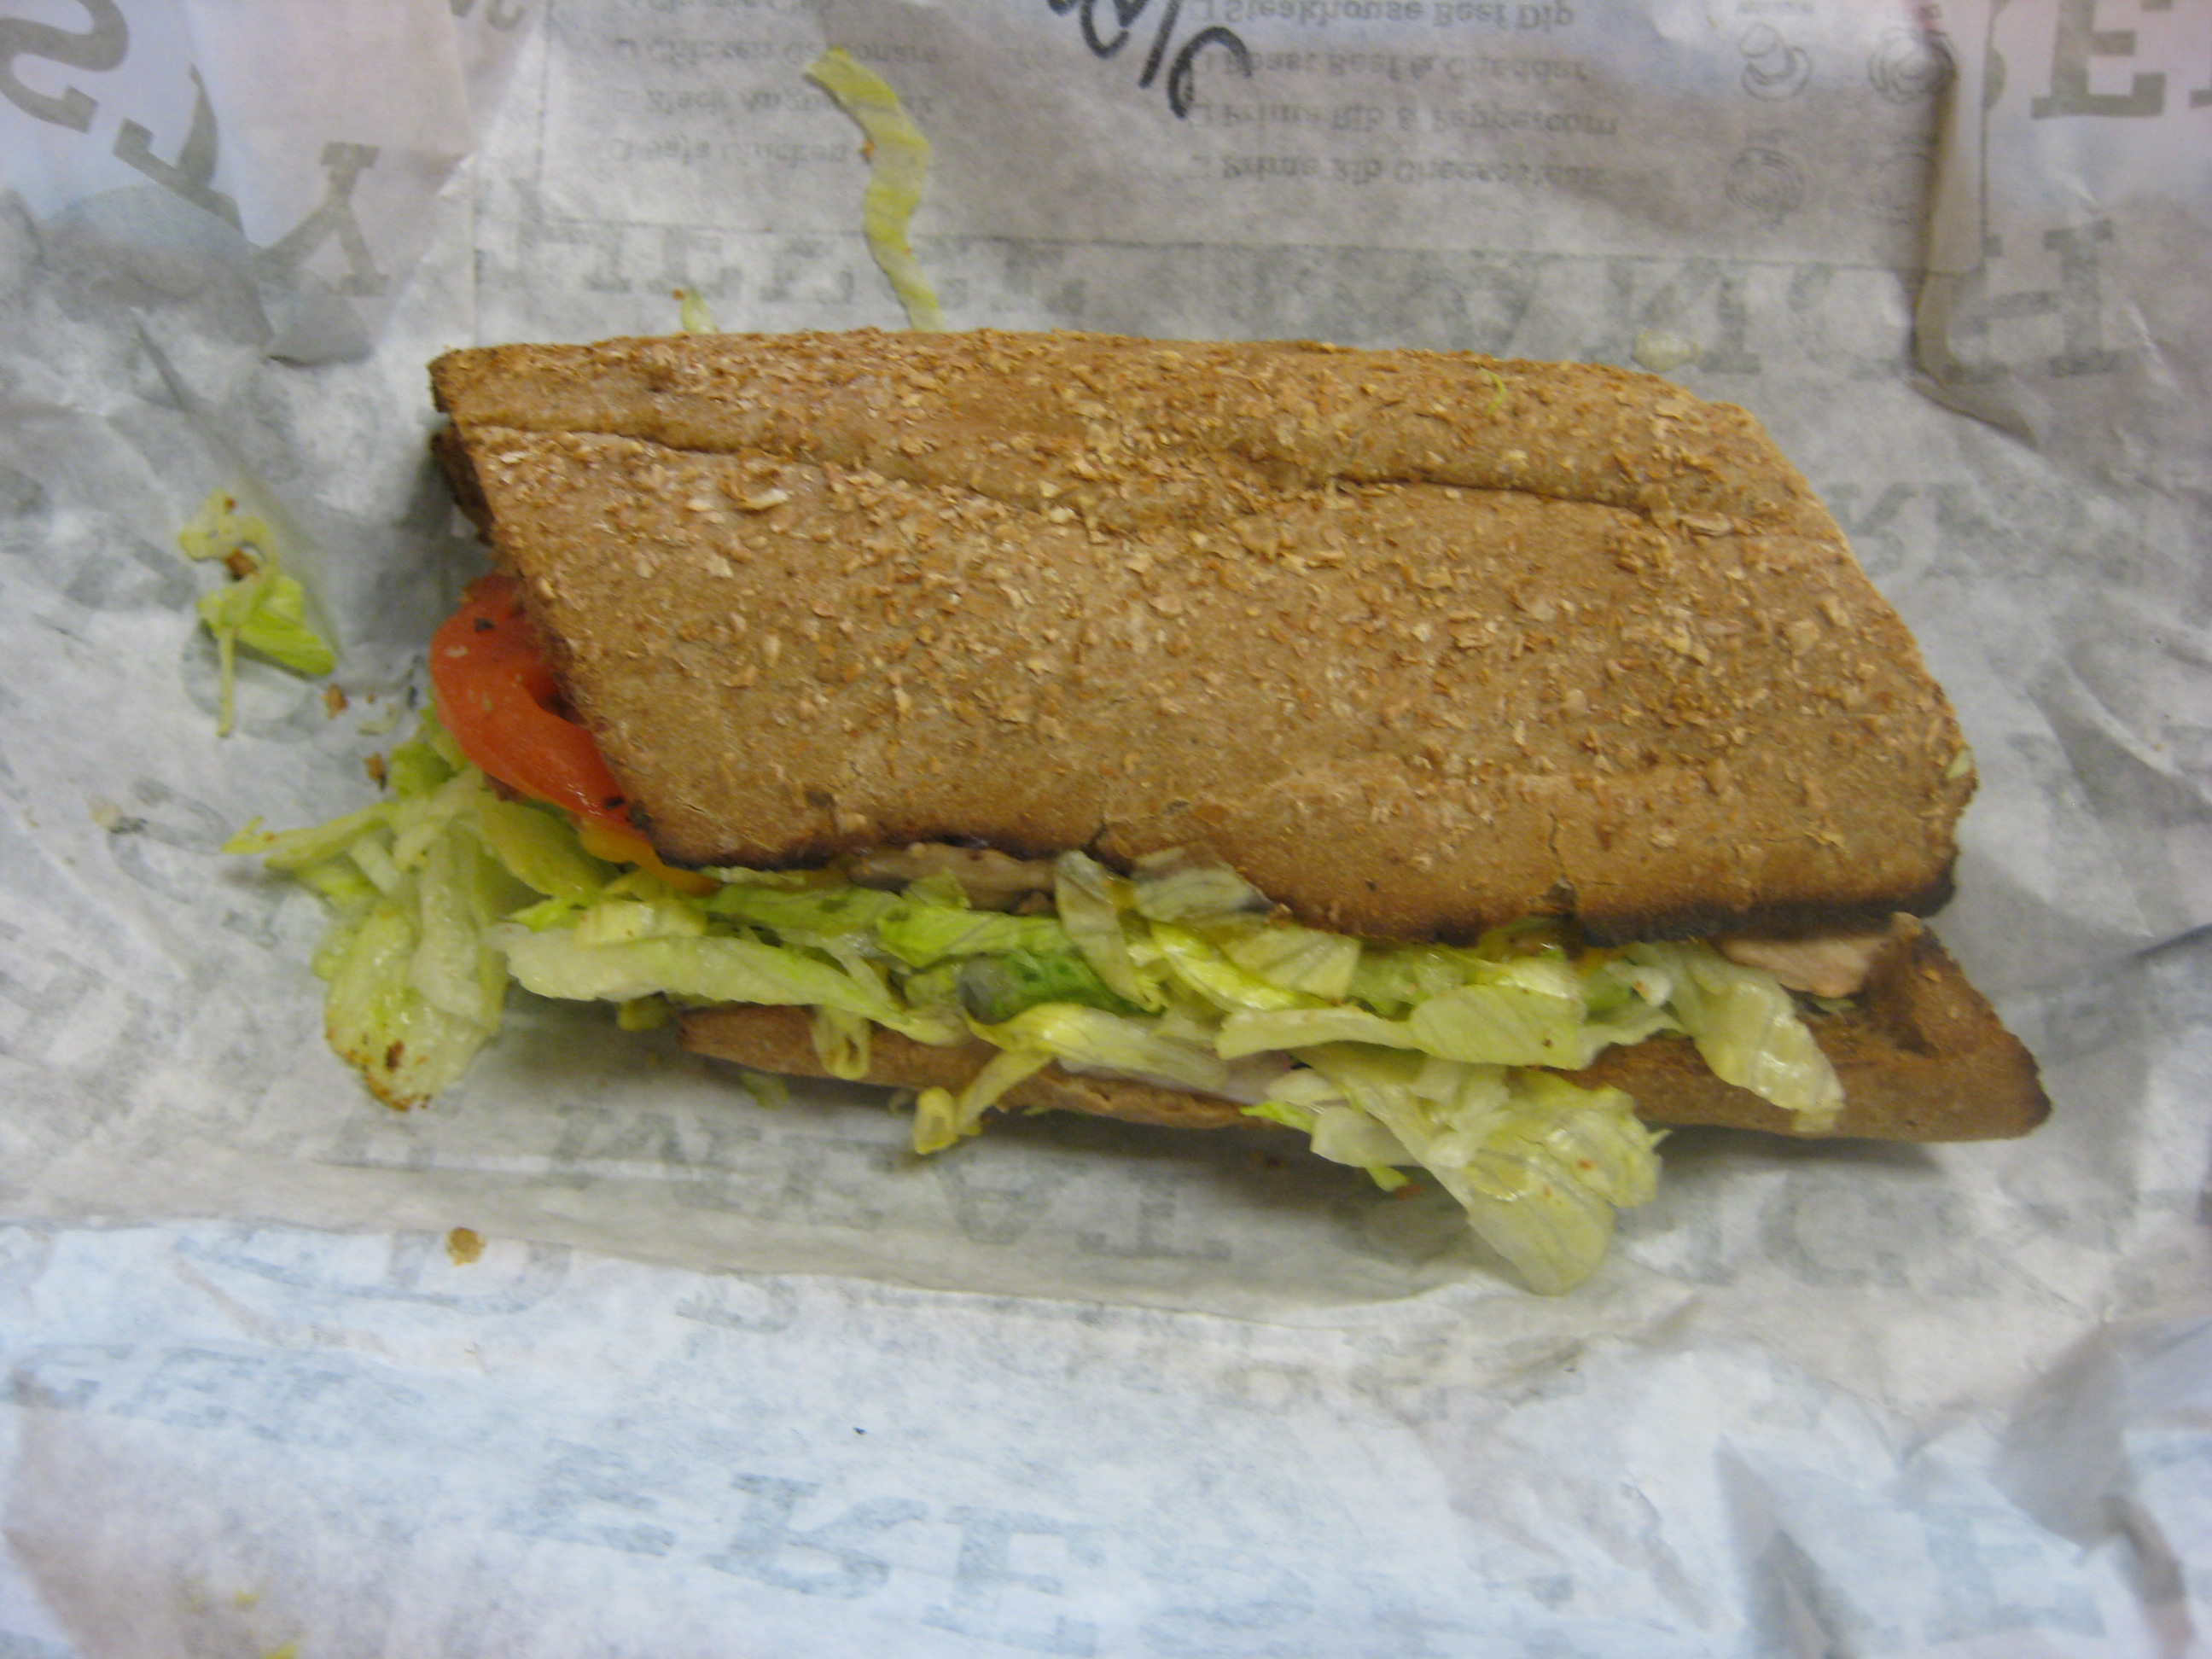sub: (375, 245, 2098, 1265)
